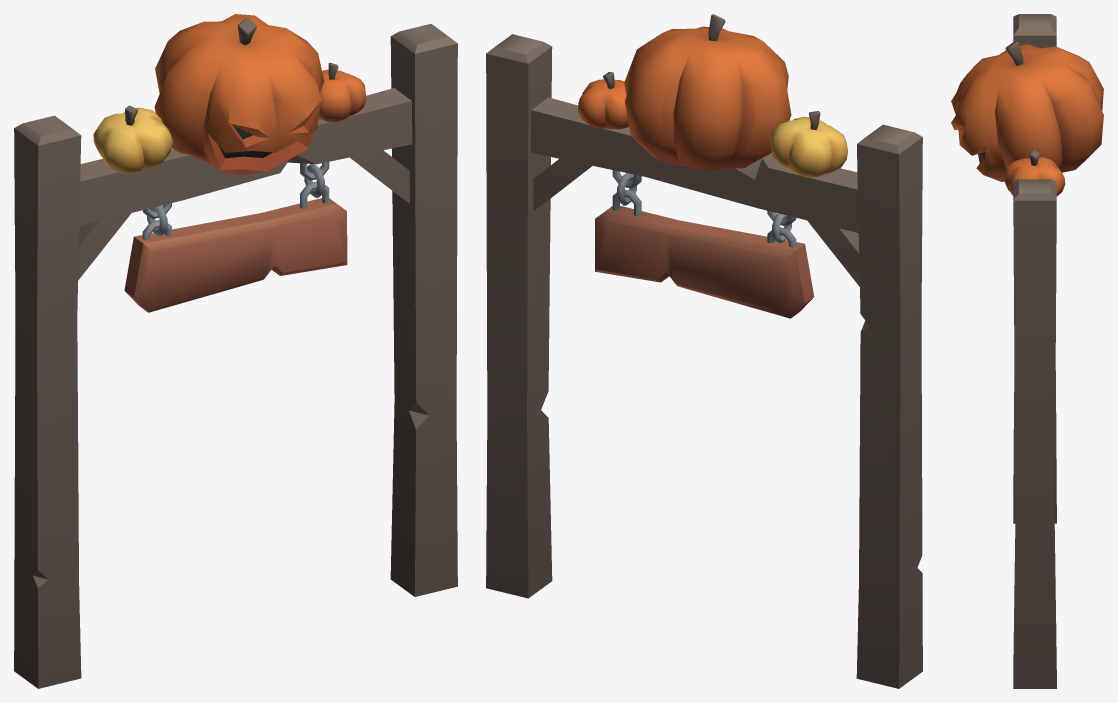
The model's file is wooden_gate_halloween.gltf.
3 renders of one model, left to right at view 1: azimuth 30°, elevation 25°; view 2: azimuth 150°, elevation 25°; view 3: azimuth 270°, elevation 25°, orthographic. The views are drawn at different scales.
Parts seen in each view (by area): view 1: wooden_gate_halloween; view 2: wooden_gate_halloween; view 3: wooden_gate_halloween.
Boxes of the visible parts, box(x1,y1,x2,y2) form: wooden_gate_halloween: box(14, 14, 457, 688); wooden_gate_halloween: box(486, 14, 922, 688); wooden_gate_halloween: box(951, 14, 1103, 688).
Bounding box in the file's own units: 4 × 5.63 × 1.4.
Materials: 1 (1 with a texture image).
